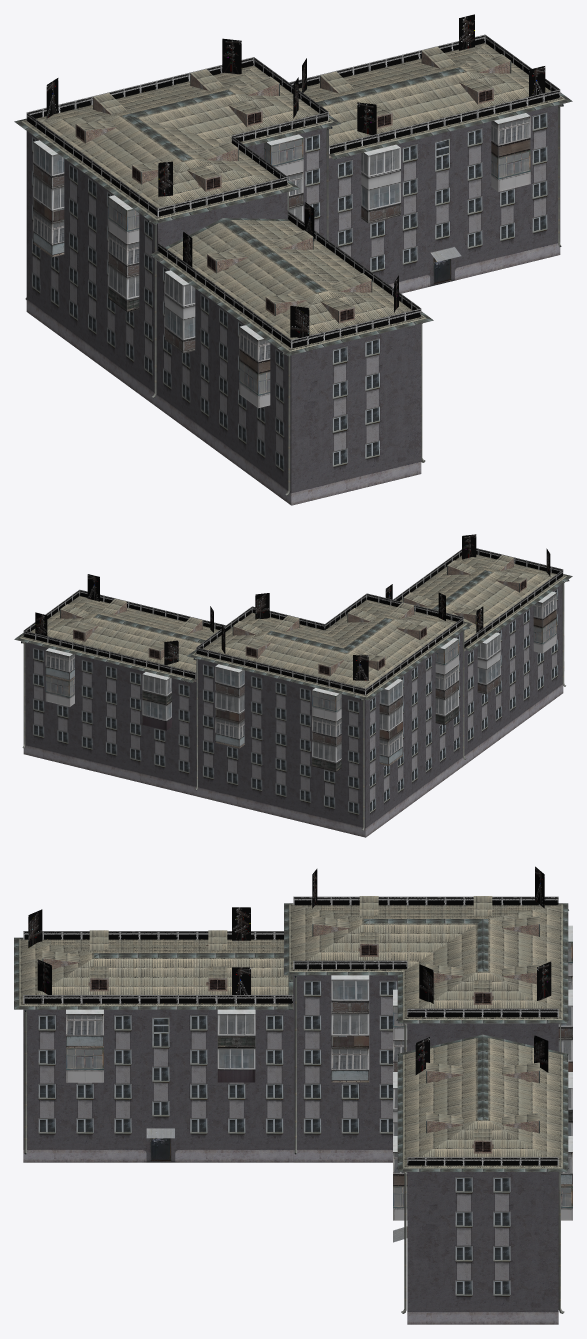
Rendered from rus_build_5et_06.fbx.
The picture shows the model from 3 angles, top to bottom: view 1: azimuth 30°, elevation 25°; view 2: azimuth 150°, elevation 25°; view 3: azimuth 270°, elevation 25°; orthographic projection. The views are drawn at different scales.
Visible parts, largest first — view 1: Regroup13, rus_build_dec_01; view 2: Regroup13, rus_build_dec_01; view 3: Regroup13, rus_build_dec_01.
Boxes of the visible parts, x1,y1,x2,y2 form: Regroup13: (14, 43, 572, 505); rus_build_dec_01: (26, 14, 560, 348); Regroup13: (14, 554, 572, 837); rus_build_dec_01: (23, 534, 563, 694); Regroup13: (14, 896, 572, 1324); rus_build_dec_01: (23, 866, 558, 1165).
Bounding box in the file's own units: 4130 × 1925 × 4130.
